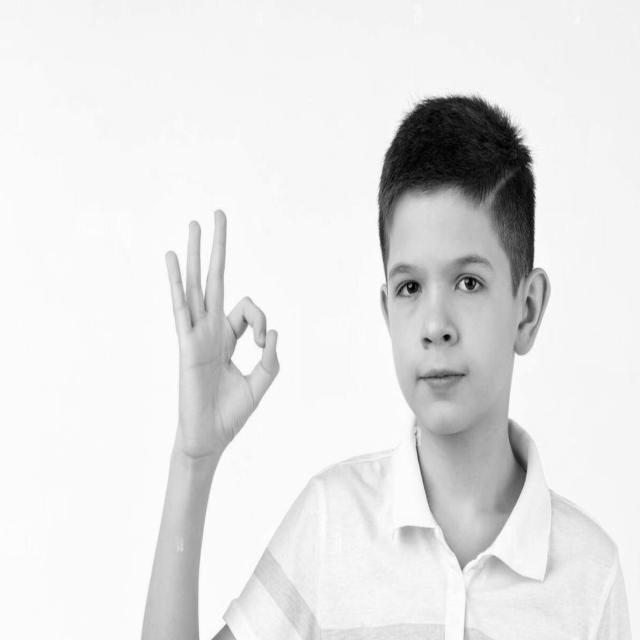perfect: (161, 201, 285, 485)
